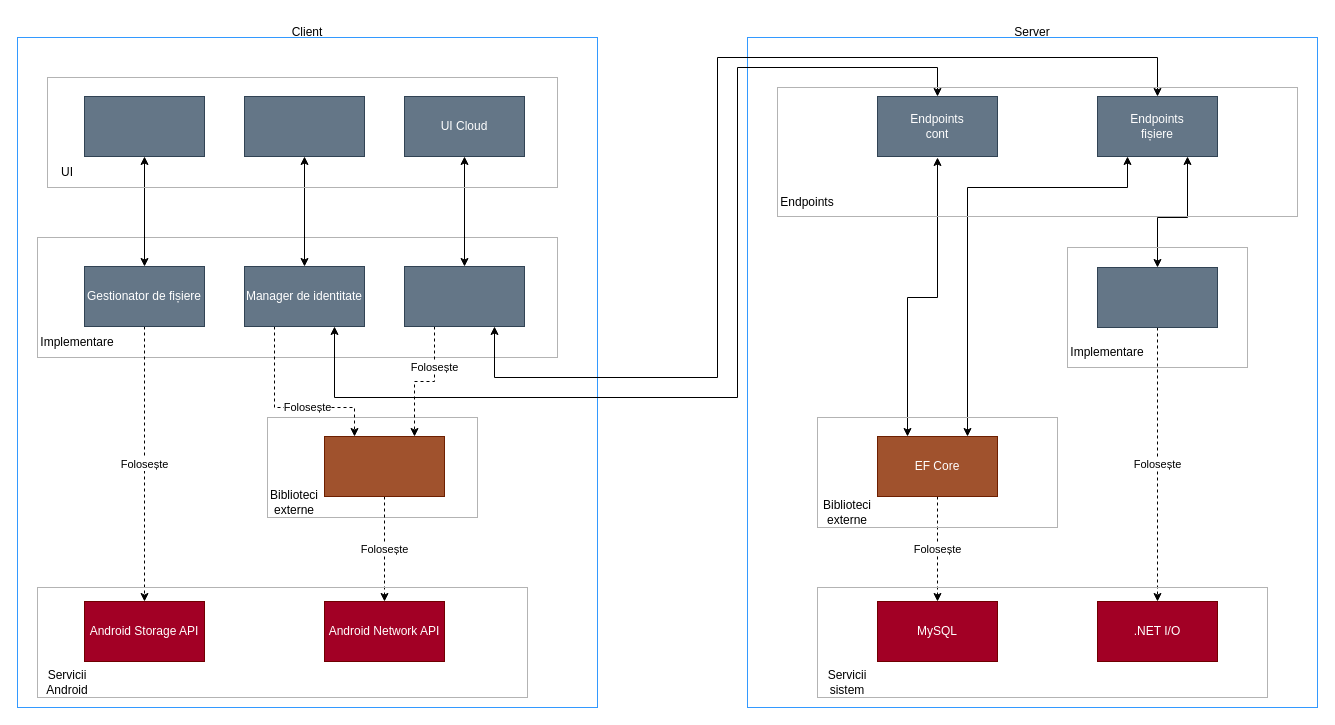
This 1335x725 diagram has some shape labels left out. Here are the shapes that lost their labels. From the top down, the box of each, then its label:
(84, 96, 204, 156): UI Editor de fișiere
(244, 96, 364, 156): UI Manager cont
(404, 266, 524, 326): Manager de fișiere de cloud
(1096, 266, 1218, 328): Manager fișiere
(324, 436, 444, 496): Ktor
